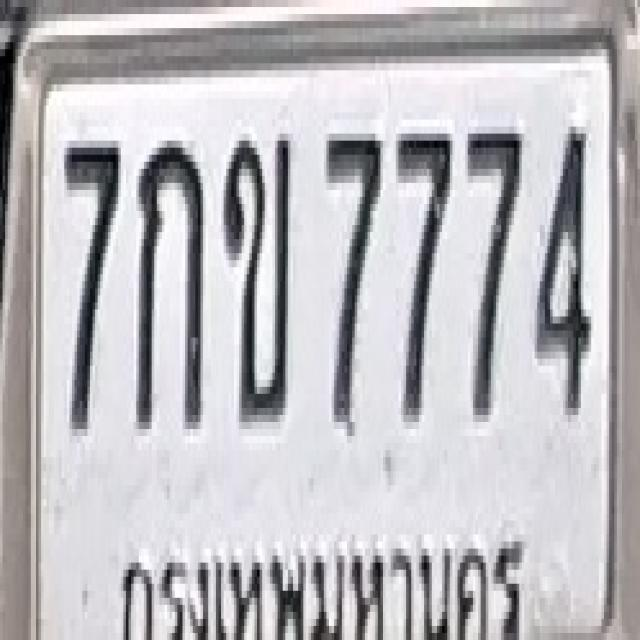-: (221, 130, 290, 426), (134, 134, 203, 429)
4: (533, 120, 590, 415)
7: (324, 127, 380, 429), (465, 123, 522, 419), (63, 137, 119, 433), (396, 127, 452, 422)
